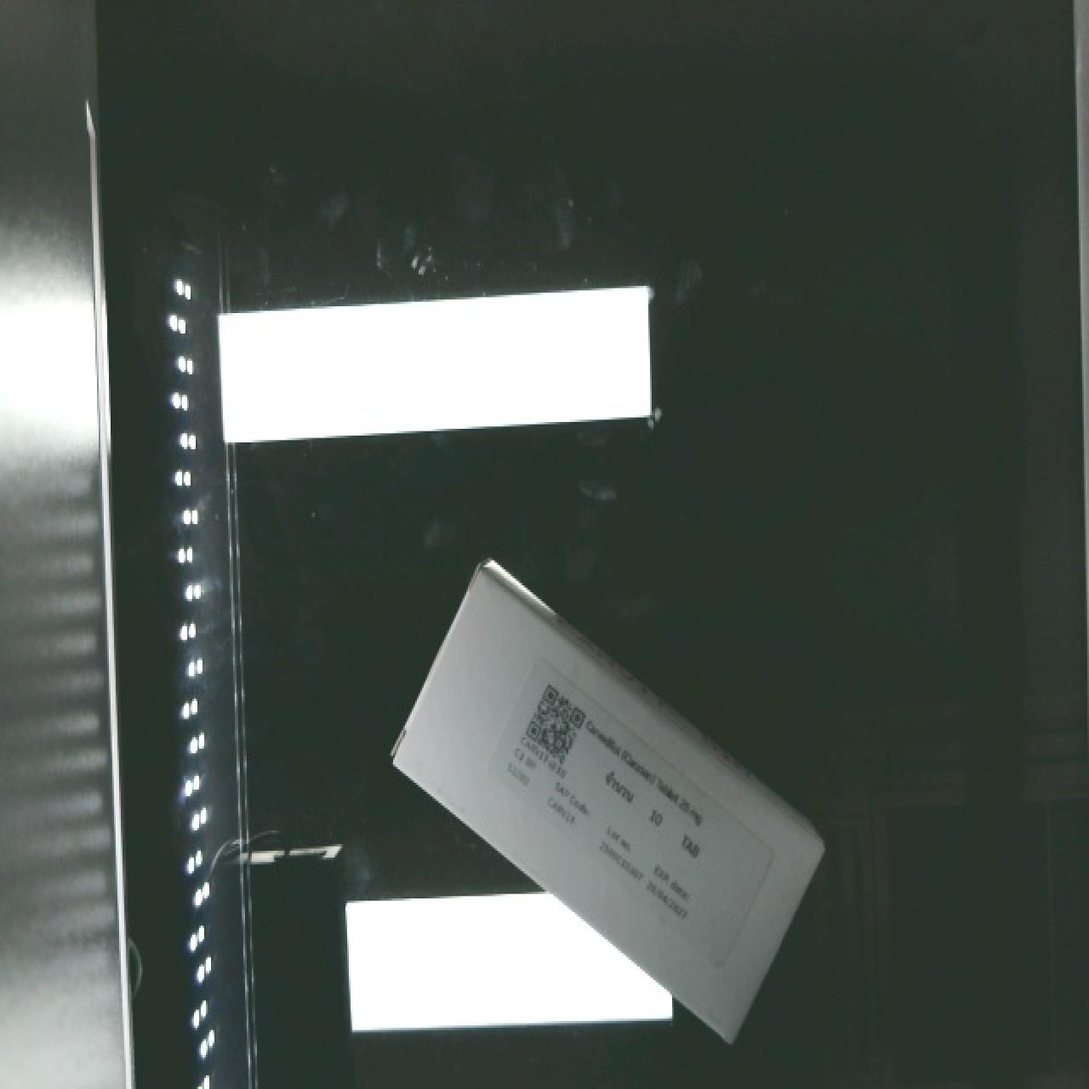qr_code: (502, 666, 599, 781)
